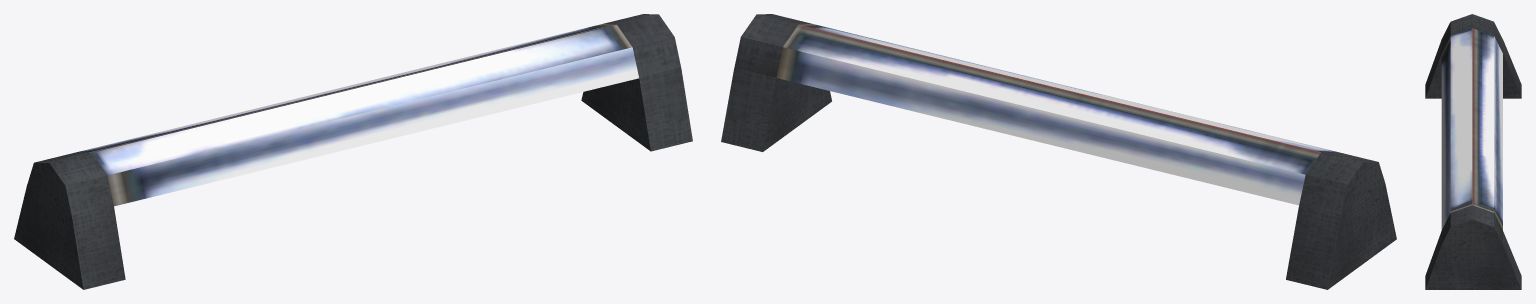
The model's file is CubeBaseFrontLight.fbx.
3 views of the same model, side by side, from view 1: azimuth 30°, elevation 25°; view 2: azimuth 150°, elevation 25°; view 3: azimuth 270°, elevation 25° (orthographic). The views are drawn at different scales.
Parts seen in each view (by area): view 1: 004_00_light, 004_01_light, 003_00_metal, 000_00_metal, 002_00_metal, 001_00_metal, 004_02_light; view 2: 004_03_light, 004_02_light, 003_00_metal, 000_00_metal, 002_00_metal, 001_00_metal, 004_01_light; view 3: 004_01_light, 000_00_metal, 004_02_light, 001_00_metal, 004_00_light, 004_03_light, 003_00_metal, 002_00_metal.
Part boxes in pixels (x1,y1,x2,y2): 004_00_light: (107, 47, 638, 206); 004_01_light: (92, 25, 632, 175); 003_00_metal: (14, 184, 125, 289); 000_00_metal: (581, 68, 692, 151); 002_00_metal: (27, 152, 113, 216); 001_00_metal: (602, 14, 681, 77); 004_02_light: (77, 24, 616, 152); 004_03_light: (776, 47, 1305, 205); 004_02_light: (783, 24, 1320, 174); 003_00_metal: (1286, 183, 1396, 289); 000_00_metal: (721, 67, 831, 151); 002_00_metal: (1299, 151, 1384, 215); 001_00_metal: (734, 14, 813, 77); 004_01_light: (799, 24, 1335, 152); 004_01_light: (1450, 28, 1472, 212); 000_00_metal: (1425, 231, 1521, 289); 004_02_light: (1472, 28, 1493, 212); 001_00_metal: (1441, 205, 1502, 270); 004_00_light: (1441, 36, 1450, 229); 004_03_light: (1494, 36, 1502, 230); 003_00_metal: (1425, 40, 1521, 98); 002_00_metal: (1441, 14, 1502, 52).
Size of the model in its own units: 1.01 by 0.1619 by 0.2003.
Materials: 2 (2 with a texture image).
